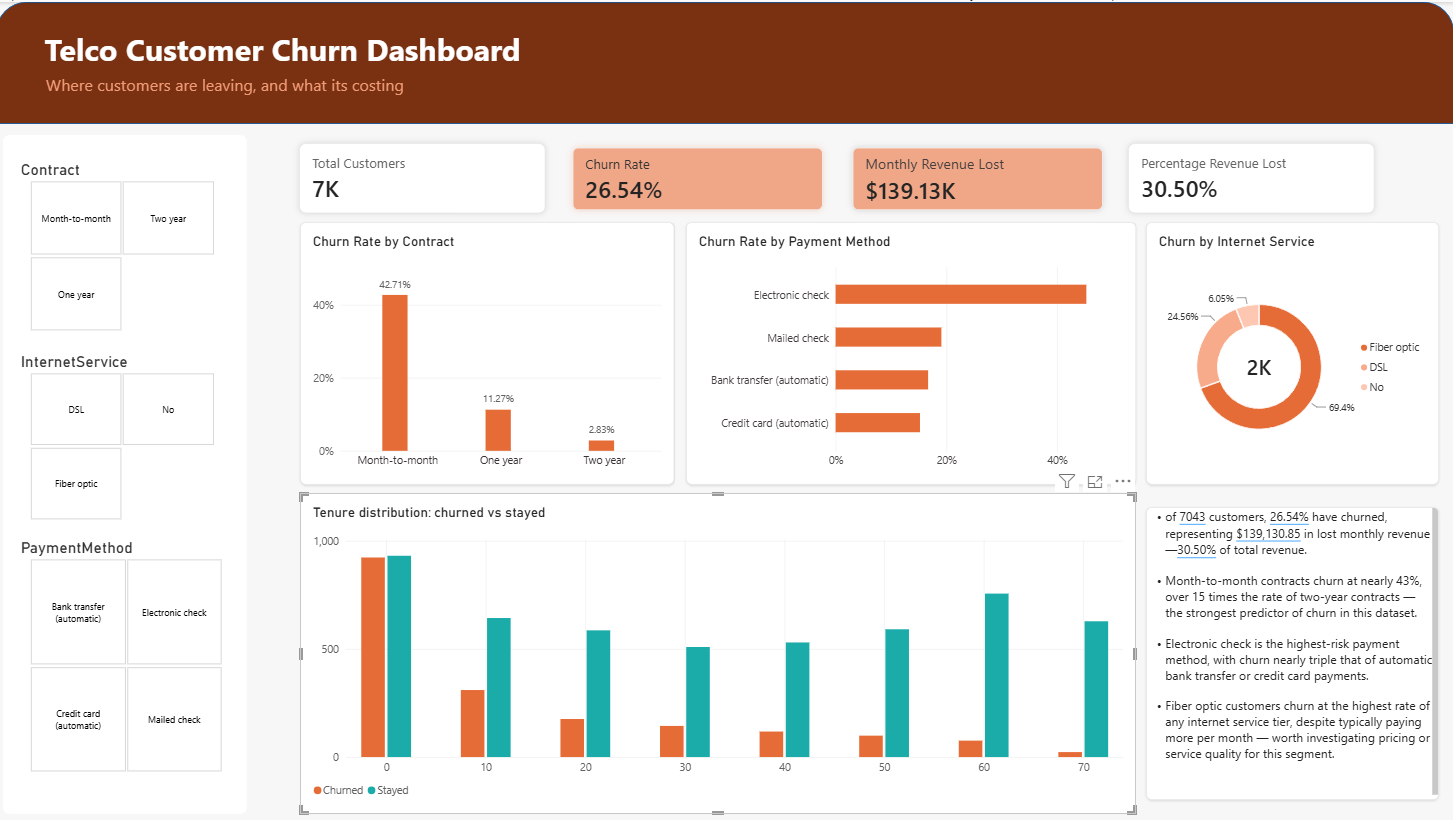

What the dashboard file says about the page in this screenshot:
{"tool":"powerbi","page":{"name":"Page 1","canvas":[1920,1080],"ordinal":0},"visuals":[{"type":"shape","box":[0,0,1920.3,160.7],"z":2},{"type":"textbox","box":[65.9,94.8,569,35.6],"z":3},{"type":"shape","box":[9.2,175.2,321.4,894.3],"z":4},{"type":"slicer","fields":{"Values":["Telco-Customer-Churn.Contract"]},"box":[25,209.4,280.5,225.2],"z":5},{"type":"slicer","fields":{"Values":["Telco-Customer-Churn.InternetService"]},"box":[25,462.3,280.5,221.3],"z":6},{"type":"slicer","fields":{"Values":["Telco-Customer-Churn.PaymentMethod"]},"box":[25,707.3,291.1,308.2],"z":7},{"type":"cardVisual","fields":{"Data":["Telco-Customer-Churn.Total Customers"]},"box":[388.5,175.2,346.4,114.6],"z":8},{"type":"cardVisual","fields":{"Data":["Telco-Customer-Churn.Percentage Revenue Lost"]},"box":[1480.4,175.2,346.4,114.6],"z":9},{"type":"cardVisual","fields":{"Data":["Telco-Customer-Churn.Churn Rate"]},"box":[748.1,180.4,353,105.4],"z":10},{"type":"cardVisual","fields":{"Data":["Telco-Customer-Churn.Monthly Revenue Lost"]},"box":[1116.9,180.4,353,105.4],"z":12},{"type":"clusteredColumnChart","title":"Churn Rate by Contract","fields":{"Category":["Telco-Customer-Churn.Contract"],"Y":["Telco-Customer-Churn.Churn Rate"]},"box":[400.4,289.8,492.6,346.4],"z":13},{"type":"clusteredBarChart","title":"Churn Rate by Payment Method","fields":{"Category":["Telco-Customer-Churn.PaymentMethod"],"Y":["Telco-Customer-Churn.Churn Rate"]},"box":[908.8,289.8,592.7,346.4],"z":14},{"type":"donutChart","title":"Churn by Internet Service","fields":{"Category":["Telco-Customer-Churn.InternetService"],"Y":["Telco-Customer-Churn.Churned Customers"]},"box":[1514.6,289.8,385.9,346.4],"z":15},{"type":"clusteredColumnChart","title":"Tenure distribution: churned vs stayed","fields":{"Category":["Telco-Customer-Churn.tenure (bins)"],"Series":["Telco-Customer-Churn.ChurnStatus"],"Y":["CountNonNull(Telco-Customer-Churn.customerID)"]},"box":[400.4,646.7,1101.1,422.8],"z":16},{"type":"textbox","box":[1514.6,665.1,385.9,385.9],"z":17}]}

Visuals, with their boxes in screenshot pixels (x1, y1, x2, y2), scaled from the page's 1920x1080 canvas onto the 1453x820 screenshot:
shape: bbox(0, 0, 1452, 122)
textbox: bbox(50, 72, 480, 99)
shape: bbox(7, 133, 250, 812)
slicer - Telco-Customer-Churn.Contract: bbox(19, 159, 231, 330)
slicer - Telco-Customer-Churn.InternetService: bbox(19, 351, 231, 519)
slicer - Telco-Customer-Churn.PaymentMethod: bbox(19, 537, 239, 771)
cardVisual - Telco-Customer-Churn.Total Customers: bbox(294, 133, 556, 220)
cardVisual - Telco-Customer-Churn.Percentage Revenue Lost: bbox(1120, 133, 1382, 220)
cardVisual - Telco-Customer-Churn.Churn Rate: bbox(566, 137, 833, 217)
cardVisual - Telco-Customer-Churn.Monthly Revenue Lost: bbox(845, 137, 1112, 217)
"Churn Rate by Contract" clusteredColumnChart: bbox(303, 220, 676, 483)
"Churn Rate by Payment Method" clusteredBarChart: bbox(688, 220, 1136, 483)
"Churn by Internet Service" donutChart: bbox(1146, 220, 1438, 483)
"Tenure distribution: churned vs stayed" clusteredColumnChart: bbox(303, 491, 1136, 812)
textbox: bbox(1146, 505, 1438, 798)
